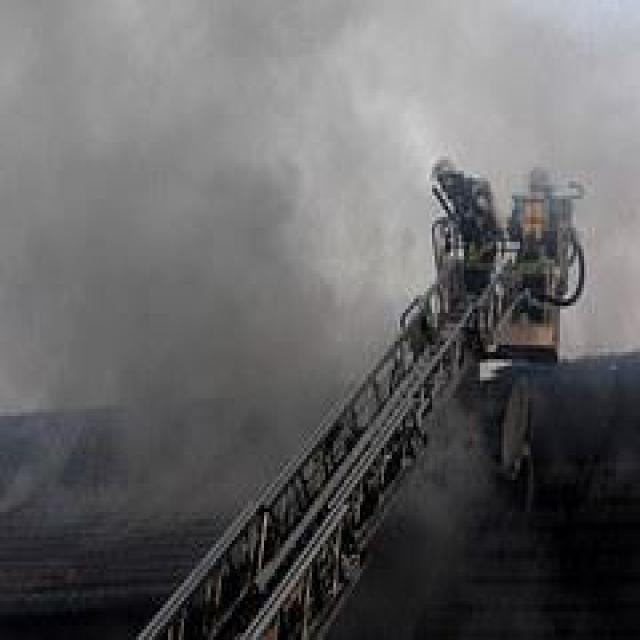Smoke: (11, 35, 372, 383)
